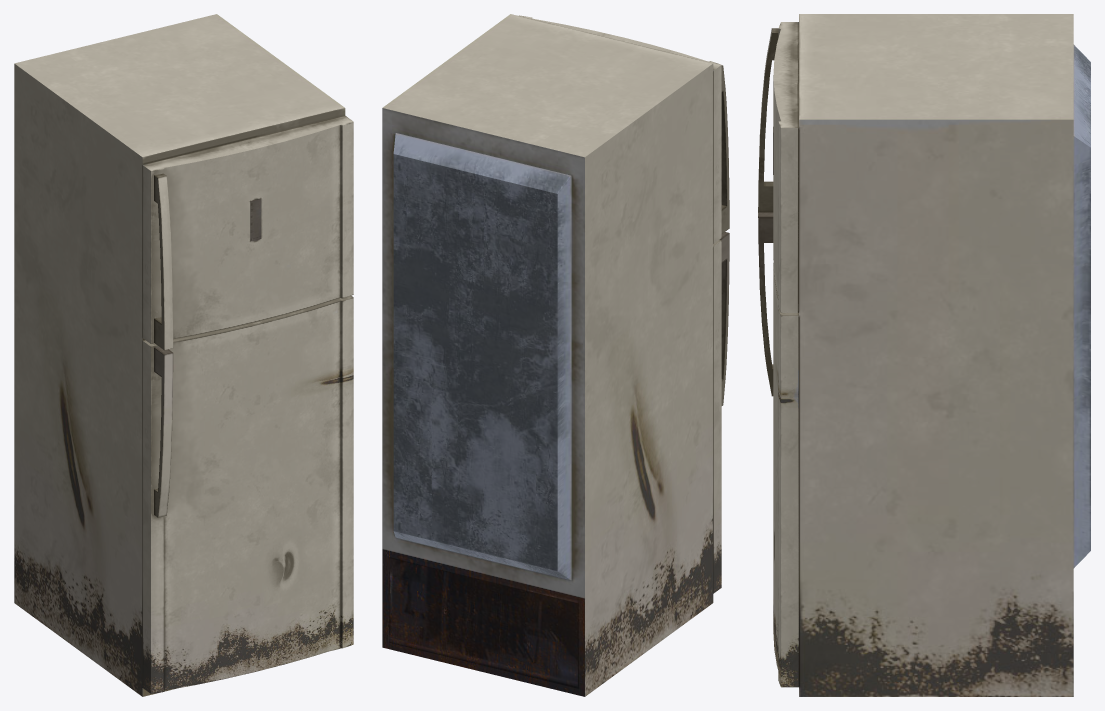
Rendered from trash_Refrigerator.fbx.
3 renders of one model, left to right at view 1: azimuth 30°, elevation 25°; view 2: azimuth 150°, elevation 25°; view 3: azimuth 270°, elevation 25°, orthographic. The views are drawn at different scales.
Parts seen in each view (by area): view 1: trash_Refrigerator; view 2: trash_Refrigerator; view 3: trash_Refrigerator.
Boxes of the visible parts, x1,y1,x2,y2 form: trash_Refrigerator: [14, 14, 353, 696]; trash_Refrigerator: [382, 14, 729, 696]; trash_Refrigerator: [758, 14, 1090, 696].
Bounding box in the file's own units: 70.36 × 93.51 × 179.
